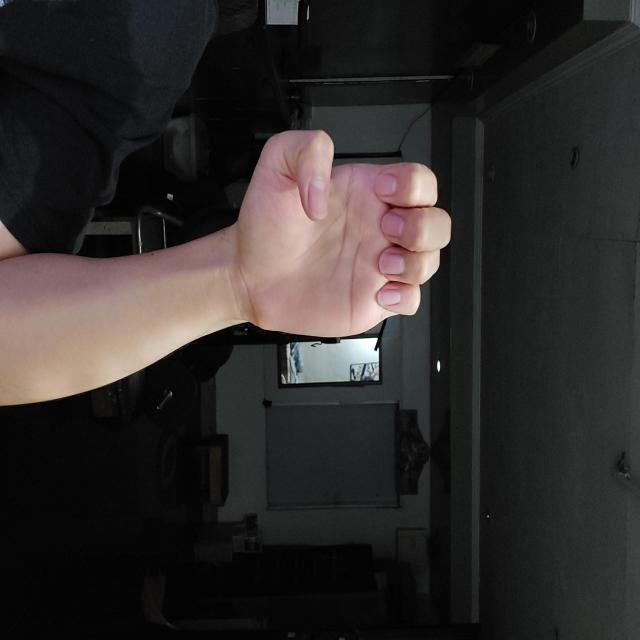E: (129, 188, 337, 404)
